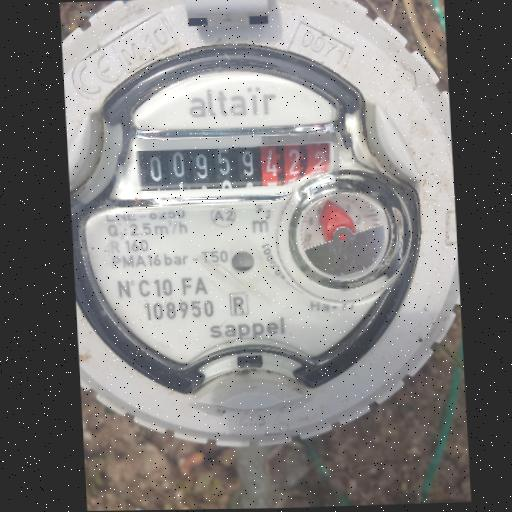0: (139, 151, 169, 191), (167, 149, 193, 191)
2: (283, 144, 309, 184), (302, 143, 331, 178)
4: (260, 146, 286, 186)
5: (213, 146, 239, 188)
9: (237, 147, 263, 188), (190, 148, 214, 190)
border_water_meter_number: (135, 137, 337, 195)
